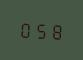eight: (49, 20, 63, 41)
five: (34, 19, 48, 40)
zero: (18, 18, 32, 39)
